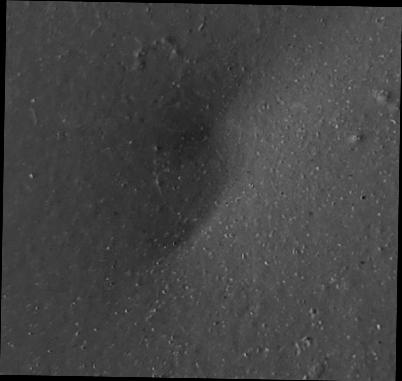dent: (1, 0, 402, 381)
